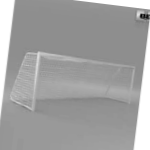goals: (9, 50, 137, 115)
